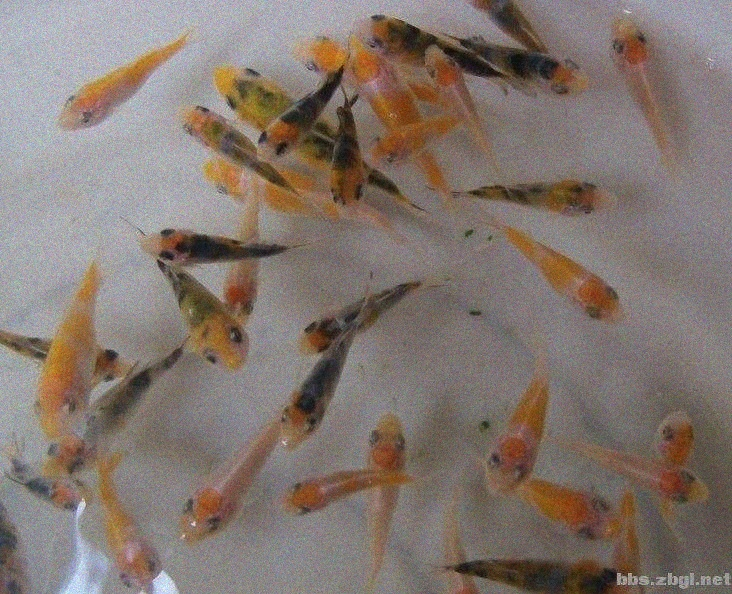fry: (599, 10, 695, 160), (21, 267, 102, 437), (569, 429, 732, 511), (36, 36, 165, 137), (511, 226, 632, 332), (287, 283, 453, 358), (159, 420, 259, 544), (27, 379, 143, 480), (152, 266, 254, 377), (355, 403, 417, 582), (482, 351, 554, 504), (136, 219, 315, 277), (89, 459, 166, 585), (278, 459, 427, 521), (263, 354, 352, 457), (492, 162, 627, 227), (480, 540, 642, 594), (2, 325, 136, 390), (343, 22, 414, 132), (494, 32, 592, 110), (526, 469, 627, 541), (216, 202, 274, 324), (202, 152, 304, 219), (432, 467, 485, 594), (651, 396, 699, 535), (319, 113, 377, 225), (209, 45, 289, 122), (173, 96, 257, 168), (424, 41, 485, 136), (1, 459, 93, 521), (609, 486, 658, 594), (284, 15, 351, 92), (354, 2, 433, 65), (477, 2, 555, 53)
